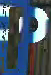Parking: (2, 3, 46, 74)
